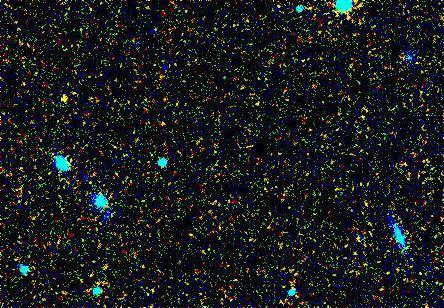star: (50, 83, 80, 113)
